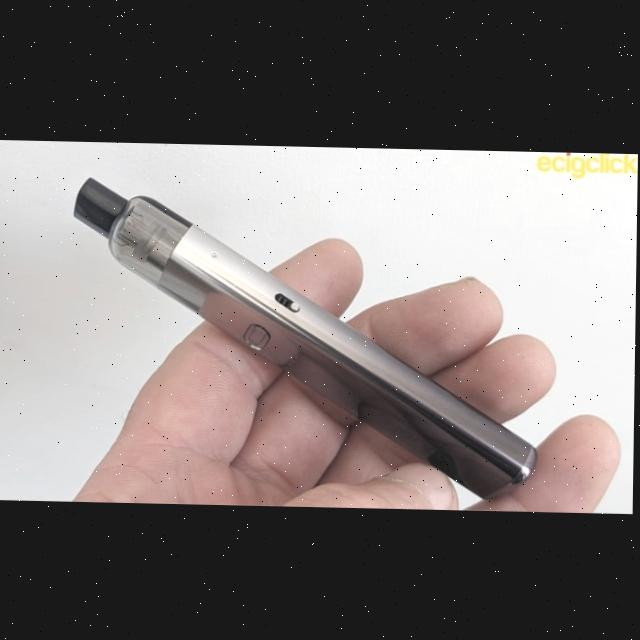vape: (70, 176, 542, 501)
